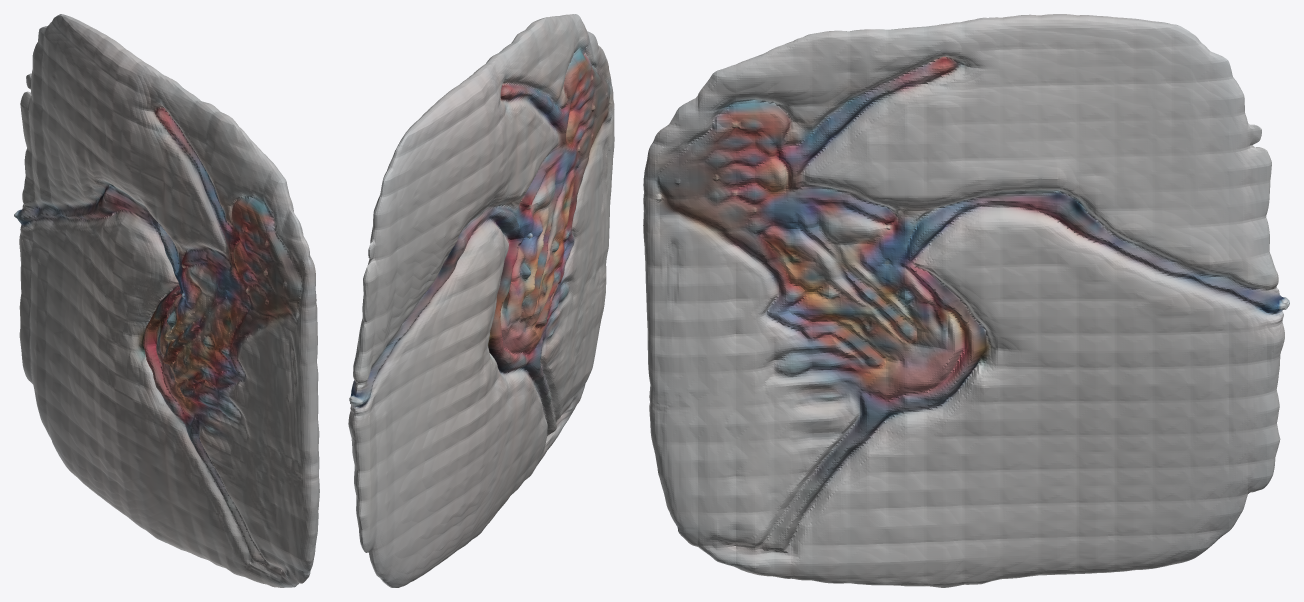
File: female-twin.glb
The picture shows the model from 3 angles, left to right: view 1: azimuth 30°, elevation 25°; view 2: azimuth 150°, elevation 25°; view 3: azimuth 270°, elevation 25°; orthographic projection. The views are drawn at different scales.
Visible parts, largest first — view 1: world; view 2: world; view 3: world.
Part boxes in pixels (box(x1,y1,x2,y2)): world: box(14, 14, 319, 587); world: box(348, 14, 614, 587); world: box(643, 14, 1289, 587).
Size of the model in its own units: 0.1169 by 0.8836 by 0.9251.
